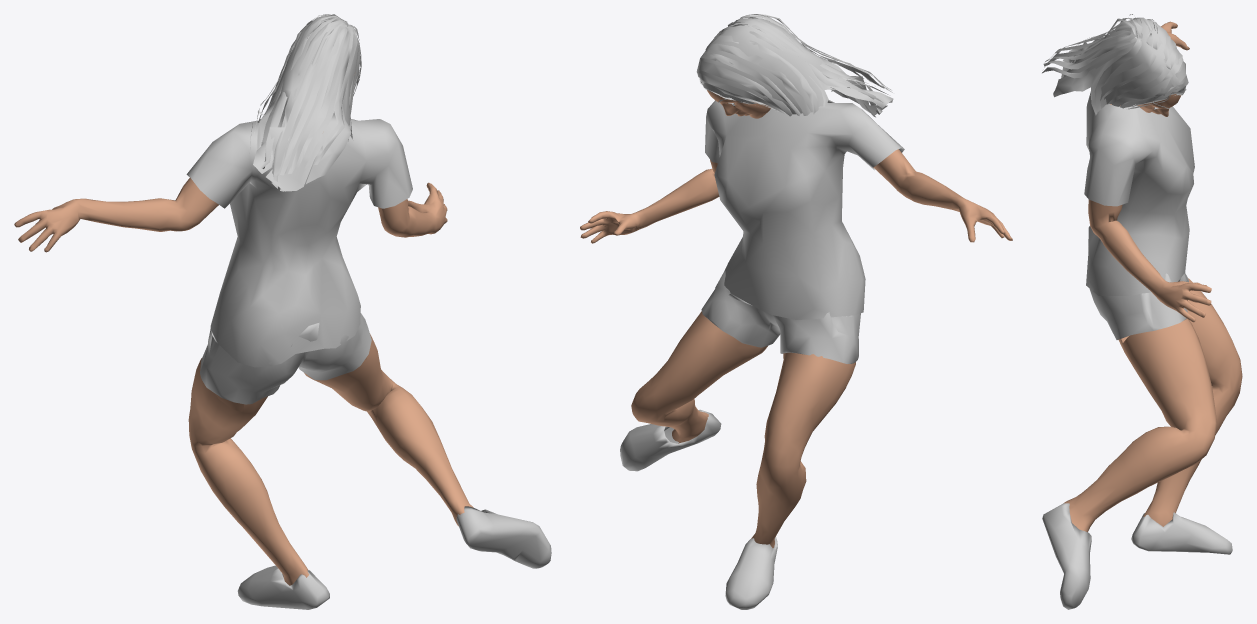
The model's file is player2att_000025.obj.
The picture shows the model from 3 angles, left to right: view 1: azimuth 30°, elevation 25°; view 2: azimuth 150°, elevation 25°; view 3: azimuth 270°, elevation 25°; orthographic projection. The views are drawn at different scales.
Visible parts, largest first — view 1: player2:tshirt02, player2:Body, player2:fhair01, player2:shoes02, player2:short01; view 2: player2:tshirt02, player2:Body, player2:fhair01, player2:short01, player2:shoes02; view 3: player2:Body, player2:tshirt02, player2:fhair01, player2:shoes02, player2:short01.
Boxes of the visible parts, x1,y1,x2,y2 form: player2:tshirt02: (186,119,412,367); player2:Body: (14,177,473,585); player2:fhair01: (249,14,361,191); player2:shoes02: (237,506,551,609); player2:short01: (200,313,371,404); player2:tshirt02: (705,99,904,319); player2:Body: (580,90,1012,547); player2:fhair01: (696,14,893,117); player2:short01: (701,271,860,363); player2:shoes02: (620,409,777,609); player2:Body: (1063,21,1242,532); player2:tshirt02: (1084,91,1194,295); player2:fhair01: (1042,14,1188,115); player2:shoes02: (1042,503,1232,609); player2:short01: (1088,273,1188,339).
Size of the model in its own units: 12.66 by 15.26 by 5.05.
